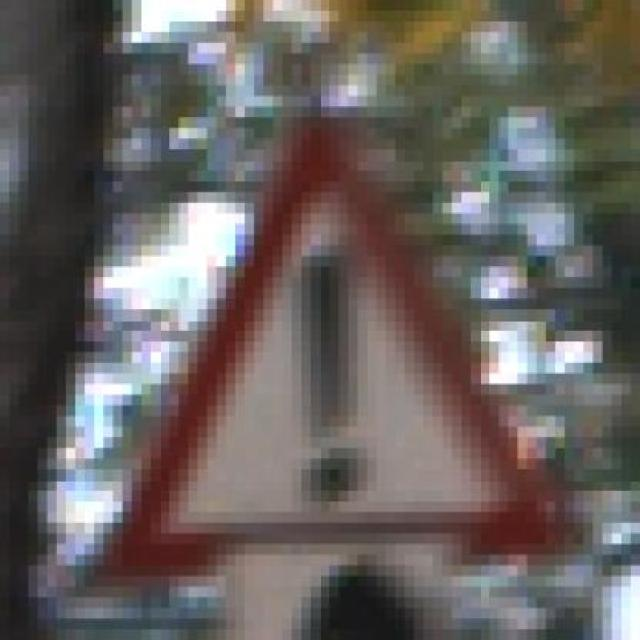Attention Please-: (80, 96, 569, 598)
